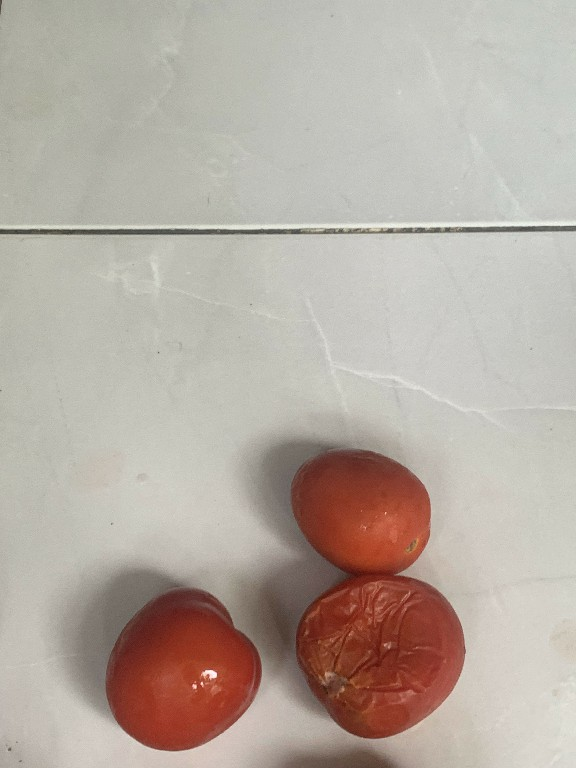NG: (287, 561, 476, 750)
OK: (92, 579, 271, 757), (278, 441, 444, 580)
